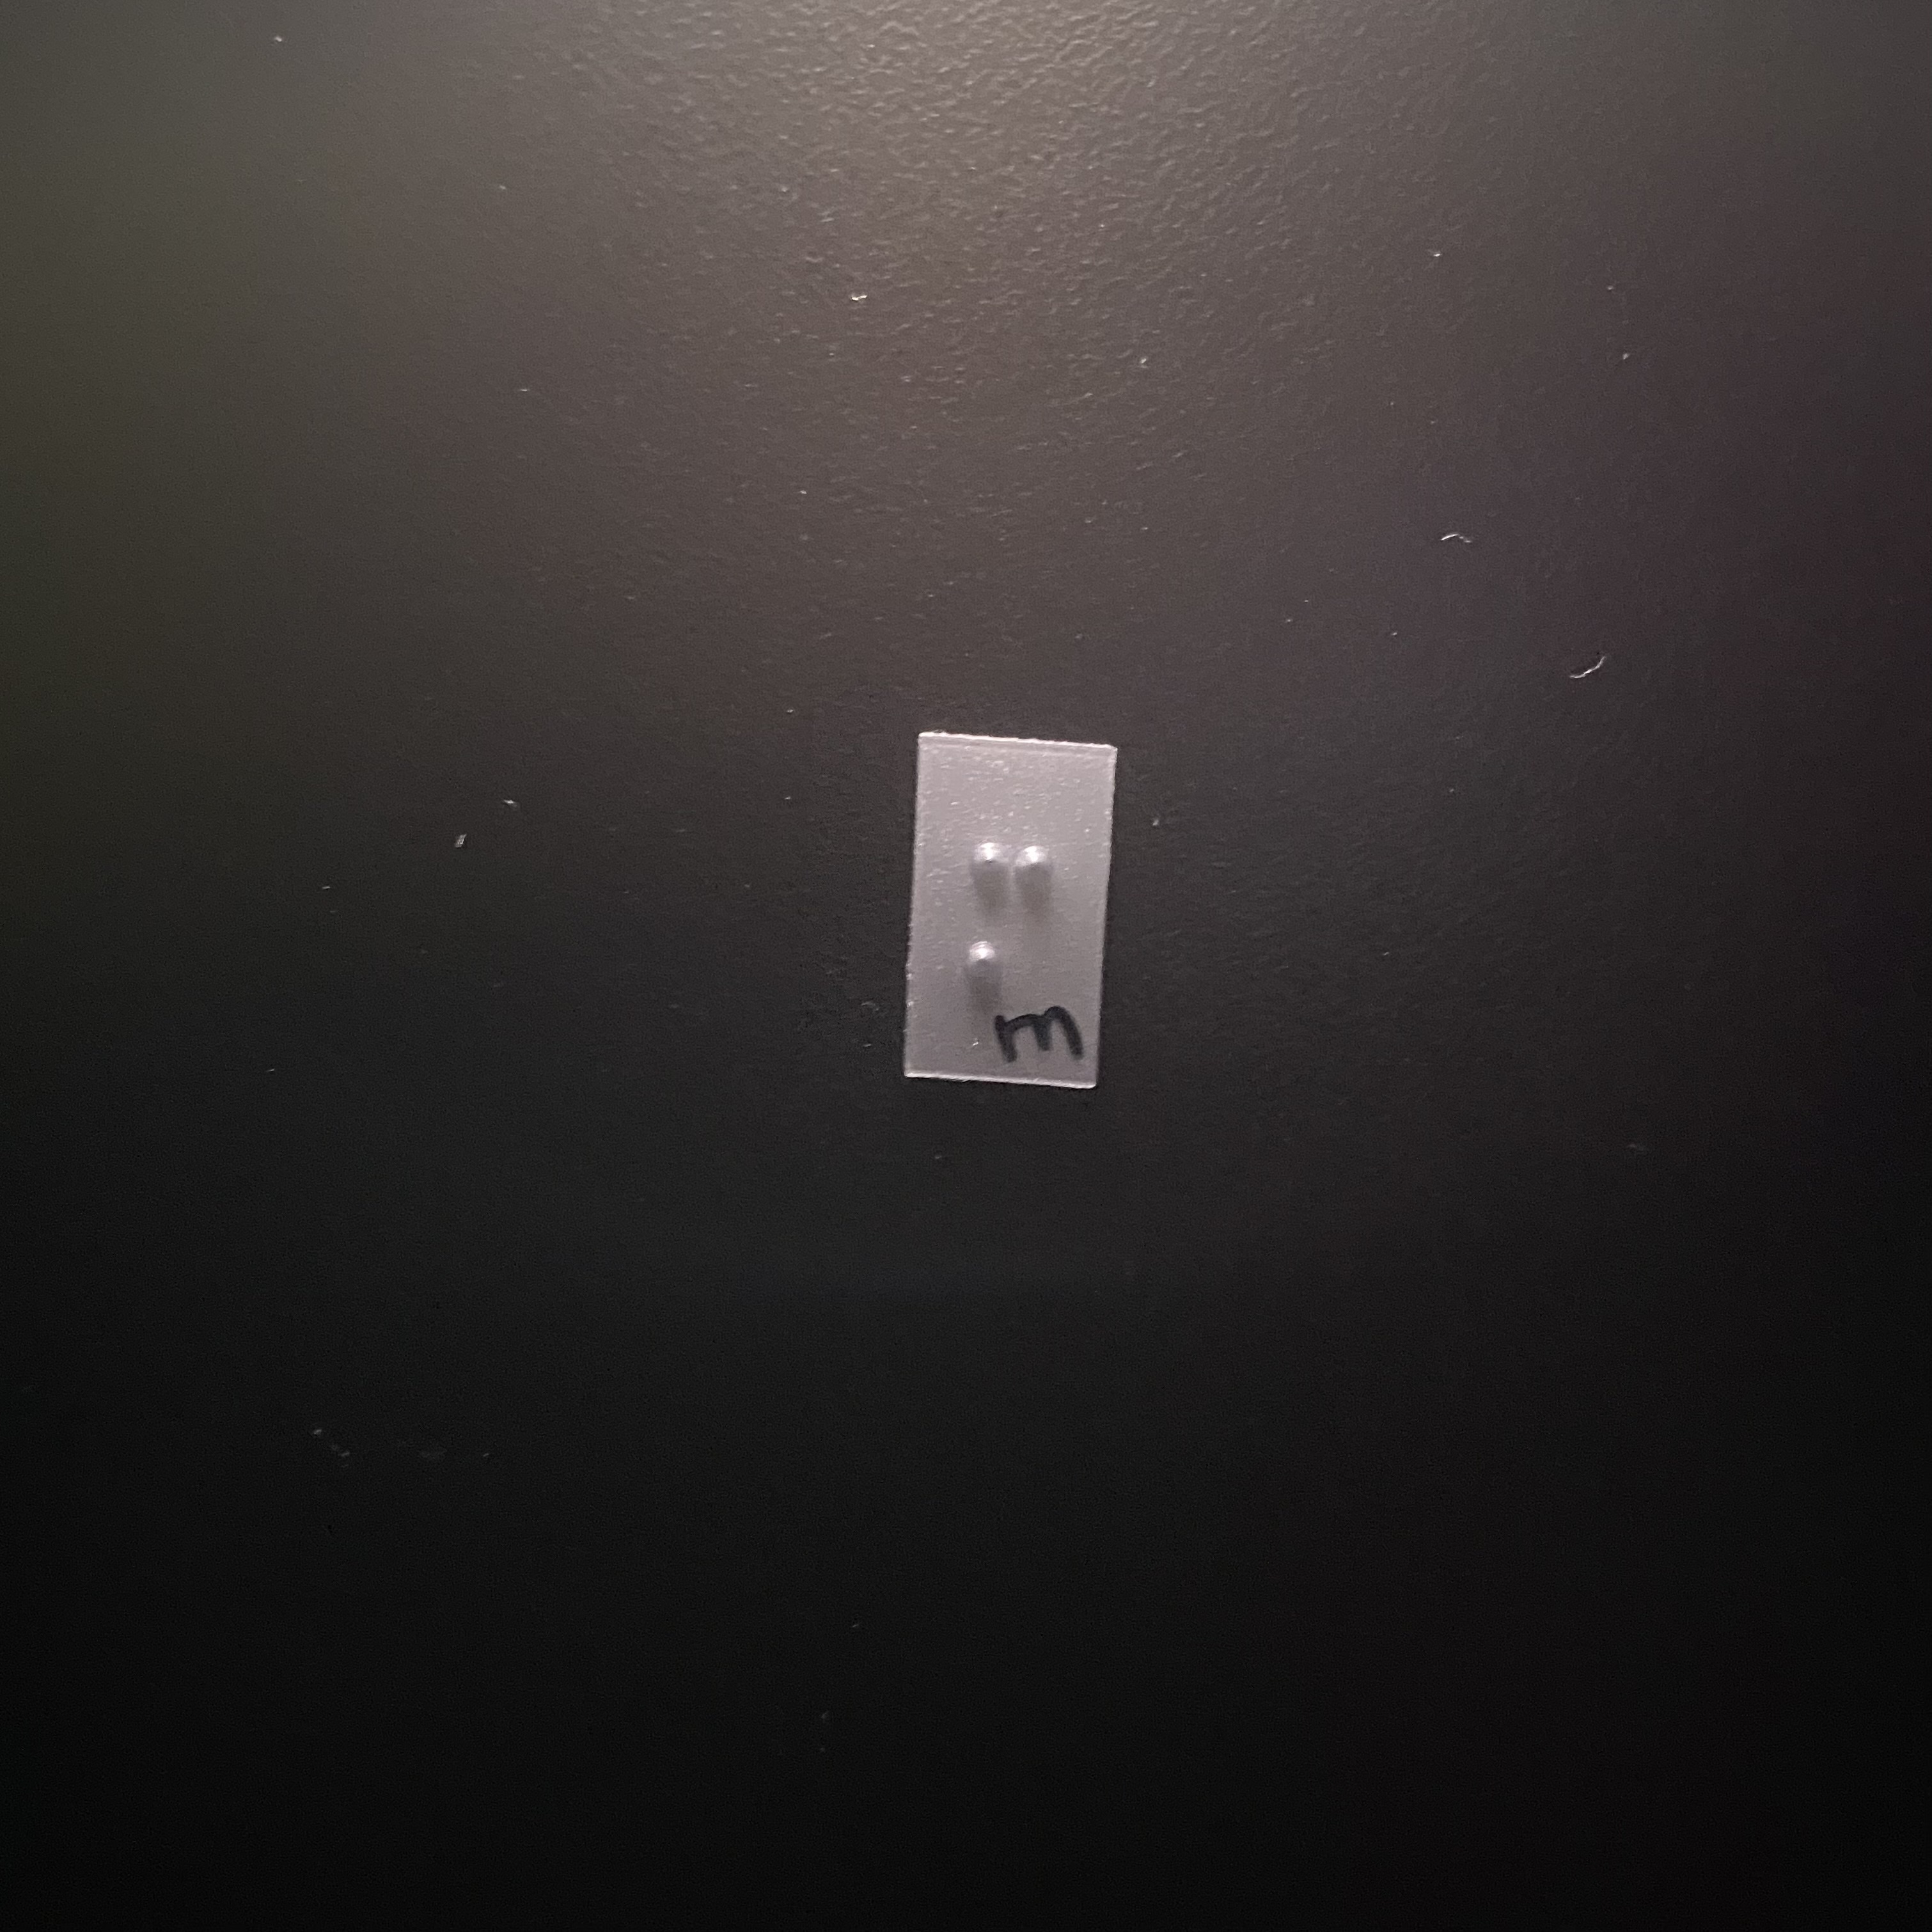m: (955, 832, 1069, 1013)
